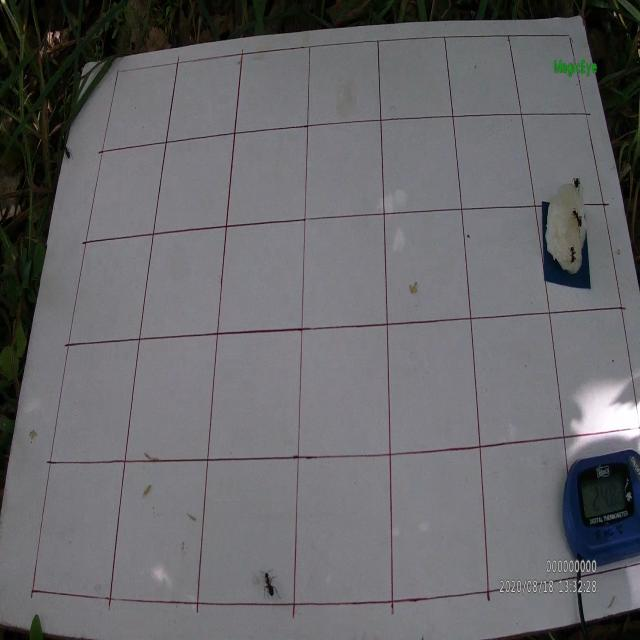Ant: (259, 569, 282, 602), (572, 206, 582, 239), (567, 241, 577, 264), (571, 176, 581, 199), (63, 144, 74, 162)
